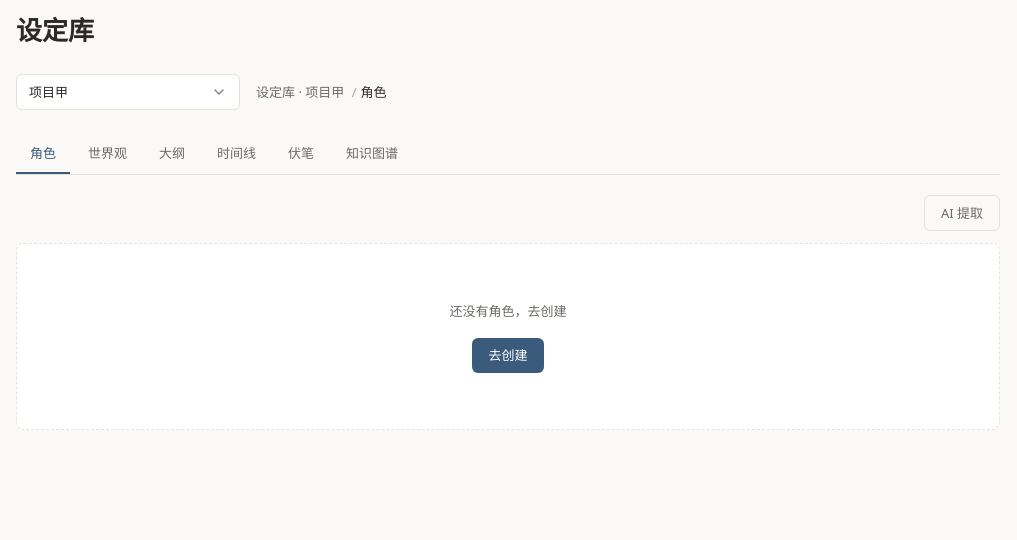
Test: 设定库页 — F43 P1 角色等级/标签/世界观树/复制（#284） › R10 分类筛选 toggle：点分类实体 chip 仅显示该分类顶层（含子树）→ 再点同 chip 全部恢复
This screenshot has width=1017, height=540.
Click the tab "世界观" at (108, 154), box [74, 134, 141, 174]
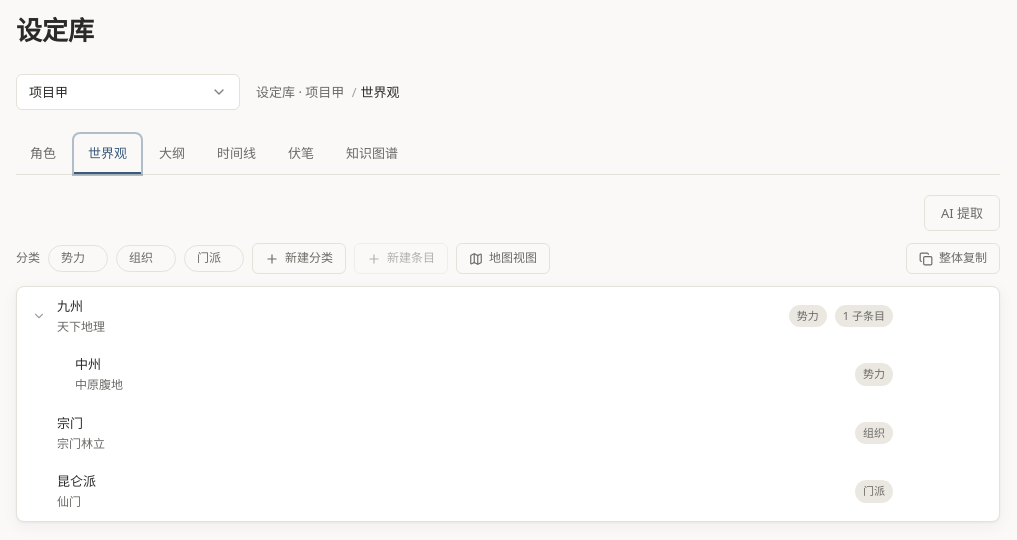
Check: the element with test id "library-list" is shown, box [16, 286, 1000, 522]
Check: the text "宗门" is shown, box [57, 414, 83, 432]
Check: the text "昆仑派" is shown, box [57, 472, 96, 490]
Click the button with test id "world-cat-filter-势力" at (73, 259), box [61, 248, 85, 269]
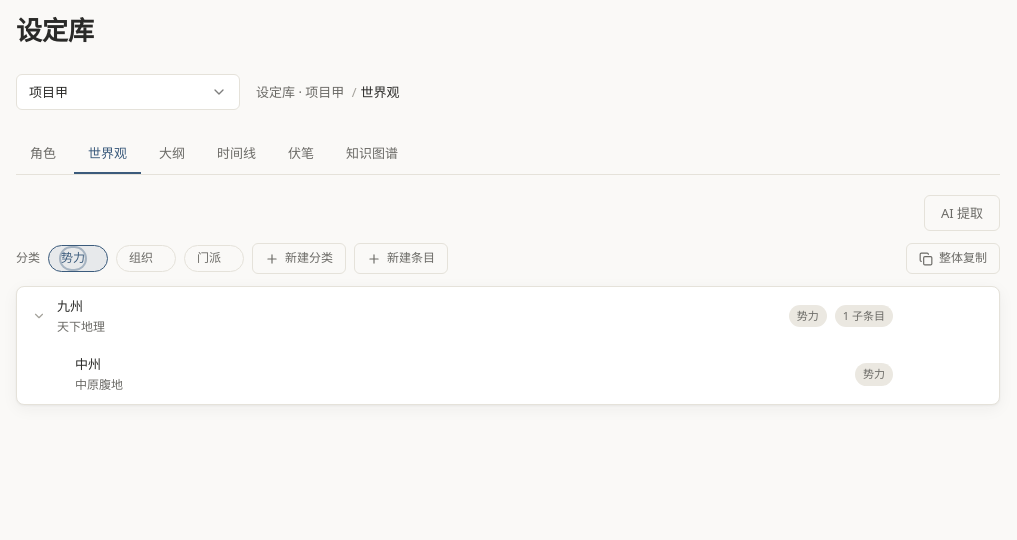
Check: the text "九州" is shown, box [57, 297, 83, 315]
Check: the text "中州" is shown, box [75, 355, 101, 373]
Check: the text "宗门" is gone
Click the button with test id "world-cat-filter-势力" at (73, 259), box [61, 248, 85, 269]
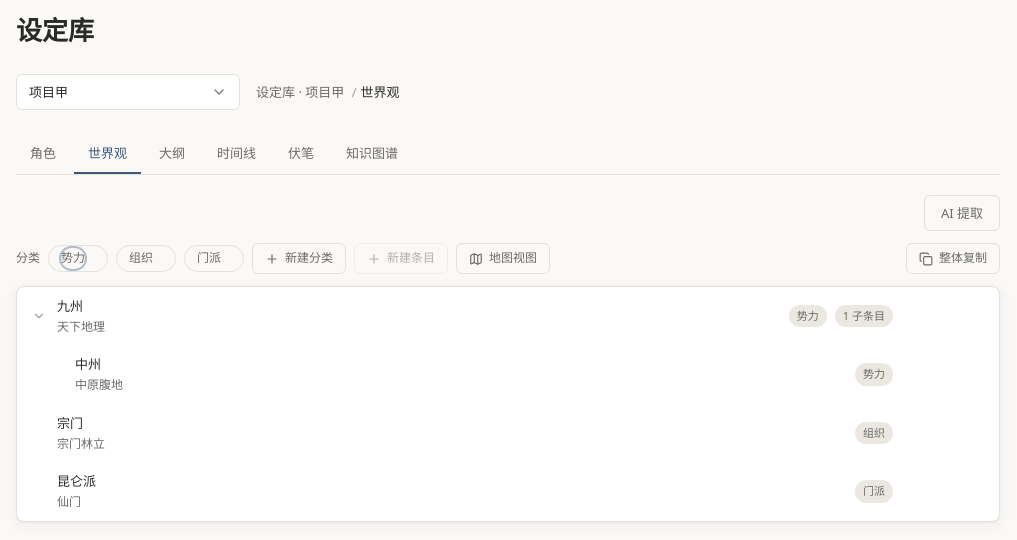
Check: the text "宗门" is shown, box [57, 414, 83, 432]
Check: the text "昆仑派" is shown, box [57, 472, 96, 490]
